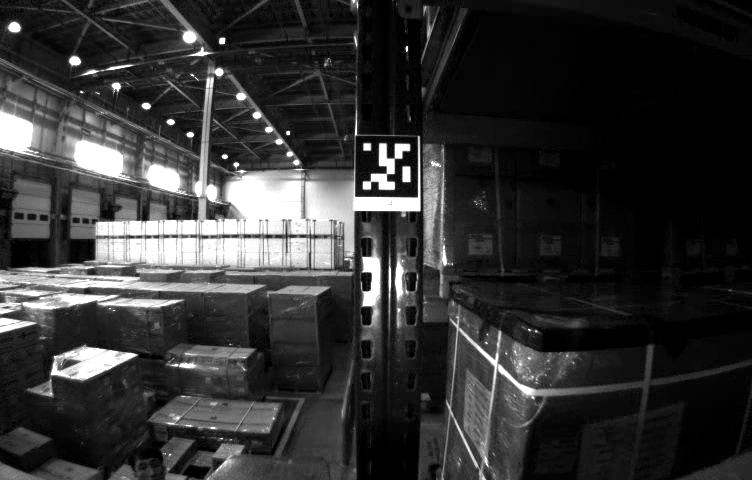True Barcode: (539, 440, 575, 474)
